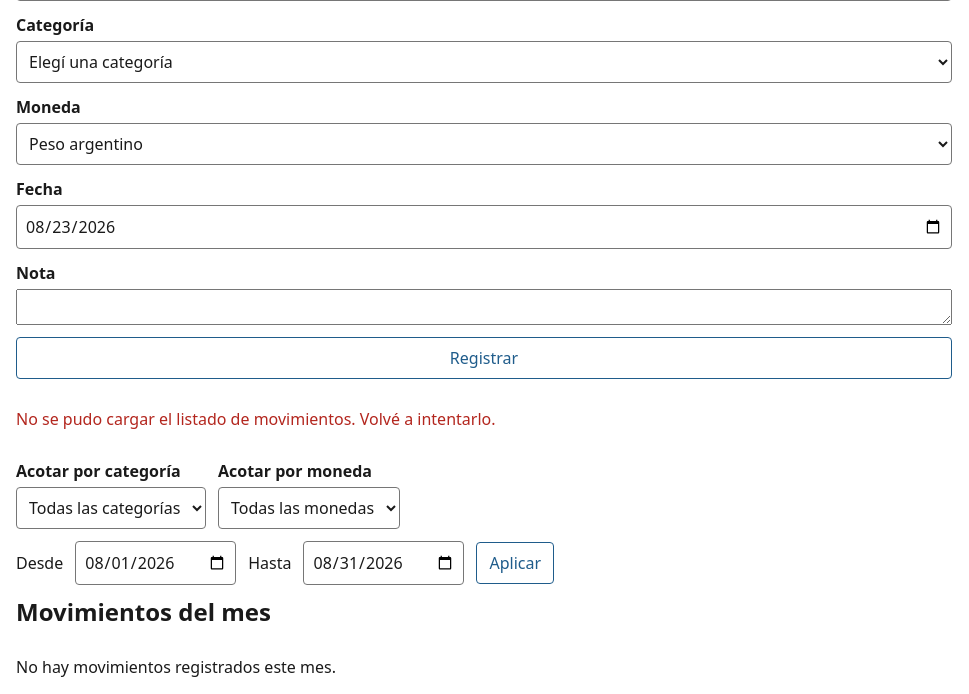
Test: carga inicial que falla › limpia el error de carga cuando una carga posterior sale bien
(page scrolled)
Expected: the text "No se pudo cargar el listado de movimientos. Volvé a intentarlo." is shown, [16, 408, 496, 430]
Select "Dólar" in the dropdown labelled "Acotar por moneda" at (309, 508), box [218, 487, 400, 529]
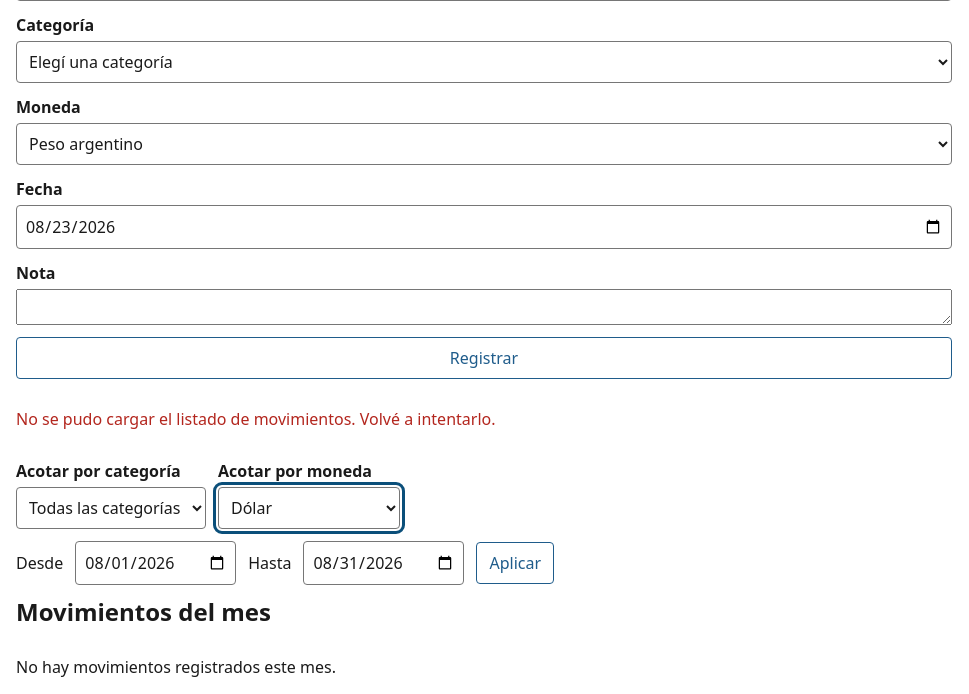
Click the button "Aplicar".
click(515, 563)  # box [476, 542, 554, 584]
(page scrolled)
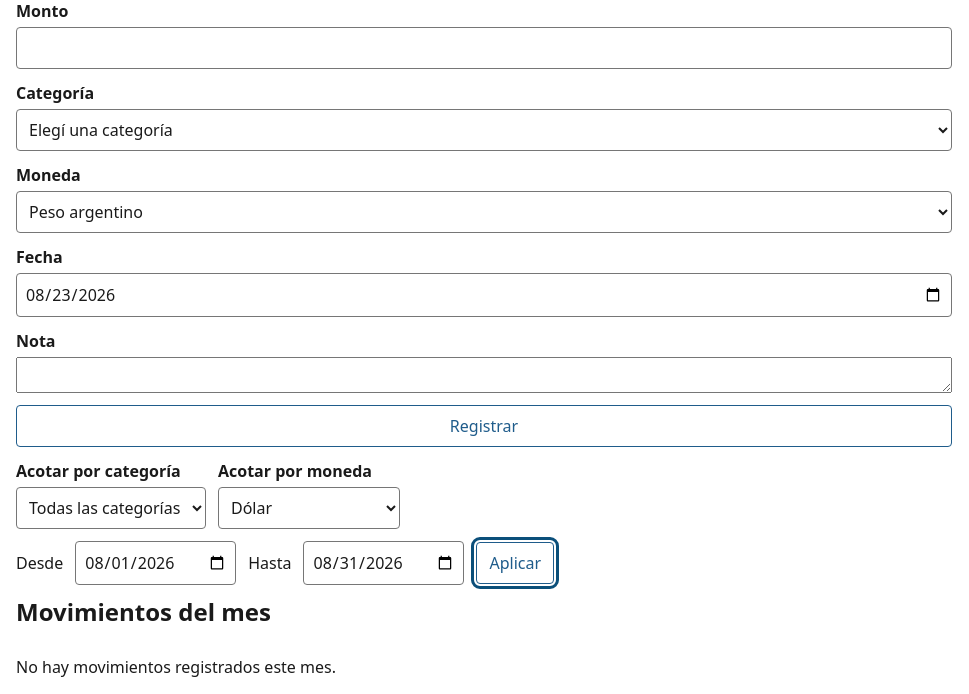
Result: the text "No se pudo cargar el listado de movimientos. Volvé a intentarlo." is gone
